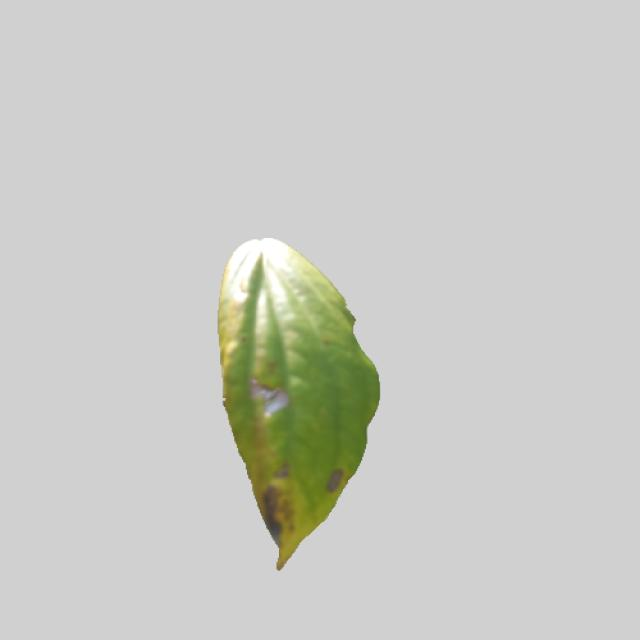yellow-mottle-virus: (202, 231, 383, 574)
